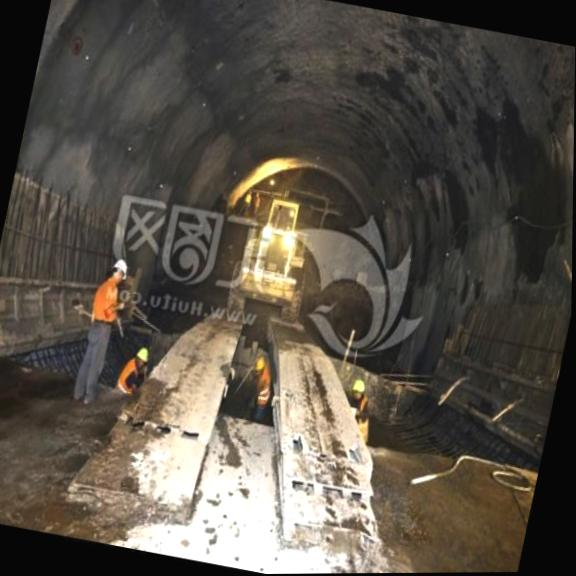no_safety_vest: (84, 277, 129, 331)
